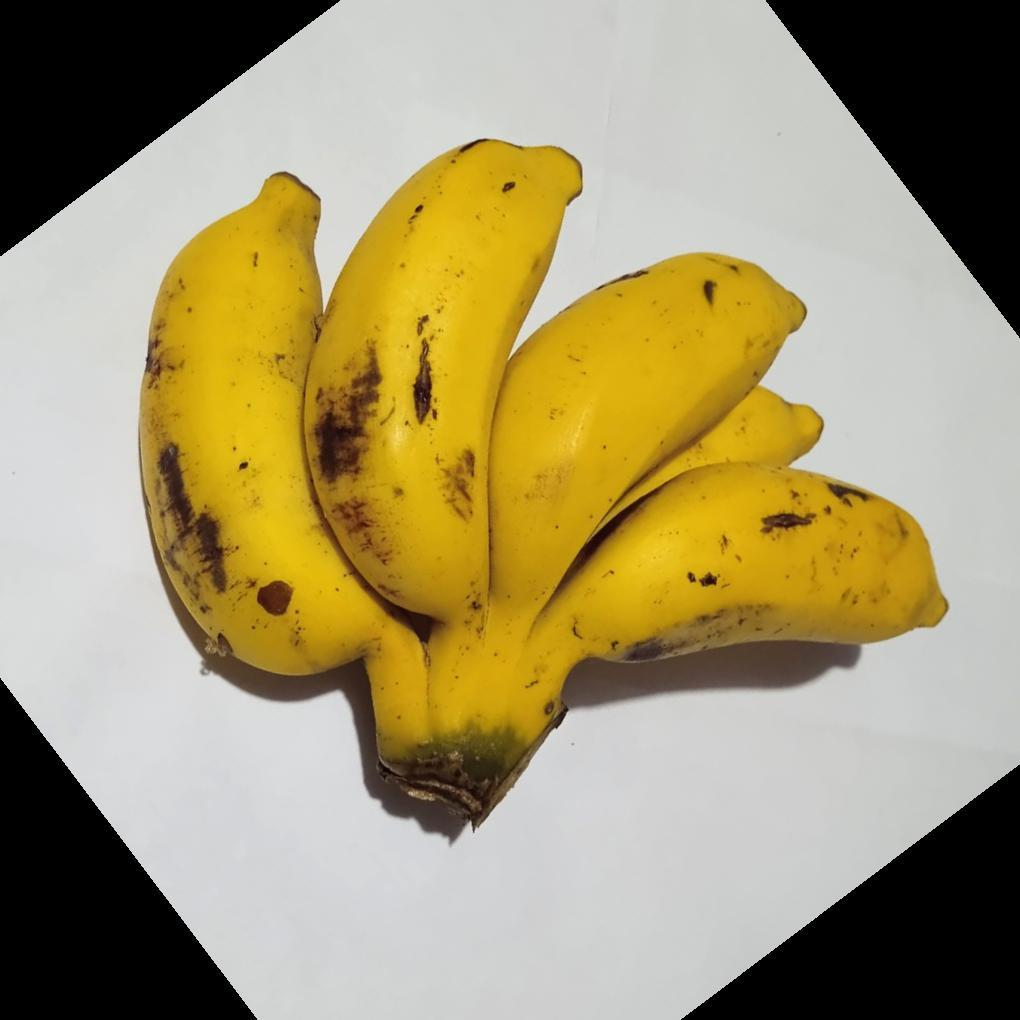Banana Ripe: (116, 116, 959, 831), (475, 193, 820, 754), (305, 87, 589, 726), (565, 407, 977, 801), (116, 161, 399, 716)
